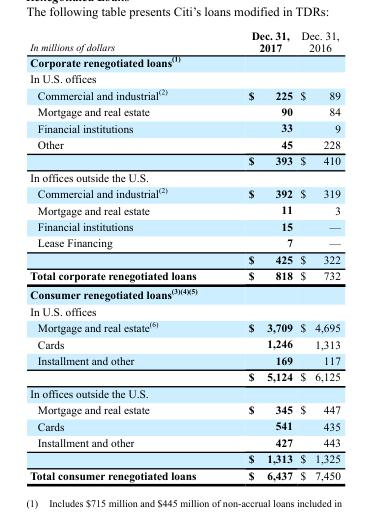table: (29, 29, 339, 481)
table column: (29, 29, 221, 481), (221, 29, 295, 481), (295, 29, 339, 481)
table column header: (29, 29, 339, 53)
table projected row header: (29, 284, 339, 302), (29, 53, 339, 70), (29, 384, 339, 401), (29, 168, 339, 184), (29, 302, 339, 318), (29, 70, 339, 85)
table row: (29, 29, 339, 53), (29, 85, 339, 103), (29, 284, 339, 302), (29, 53, 339, 70), (29, 135, 339, 152), (29, 184, 339, 201), (29, 217, 339, 234), (29, 250, 339, 267), (29, 267, 339, 284), (29, 318, 339, 335), (29, 351, 339, 368), (29, 384, 339, 401), (29, 433, 339, 450), (29, 103, 339, 119), (29, 119, 339, 135), (29, 152, 339, 168), (29, 168, 339, 184), (29, 201, 339, 217), (29, 234, 339, 250), (29, 302, 339, 318), (29, 335, 339, 351), (29, 368, 339, 384), (29, 401, 339, 417), (29, 417, 339, 433), (29, 450, 339, 466), (29, 70, 339, 85), (29, 466, 339, 481)
